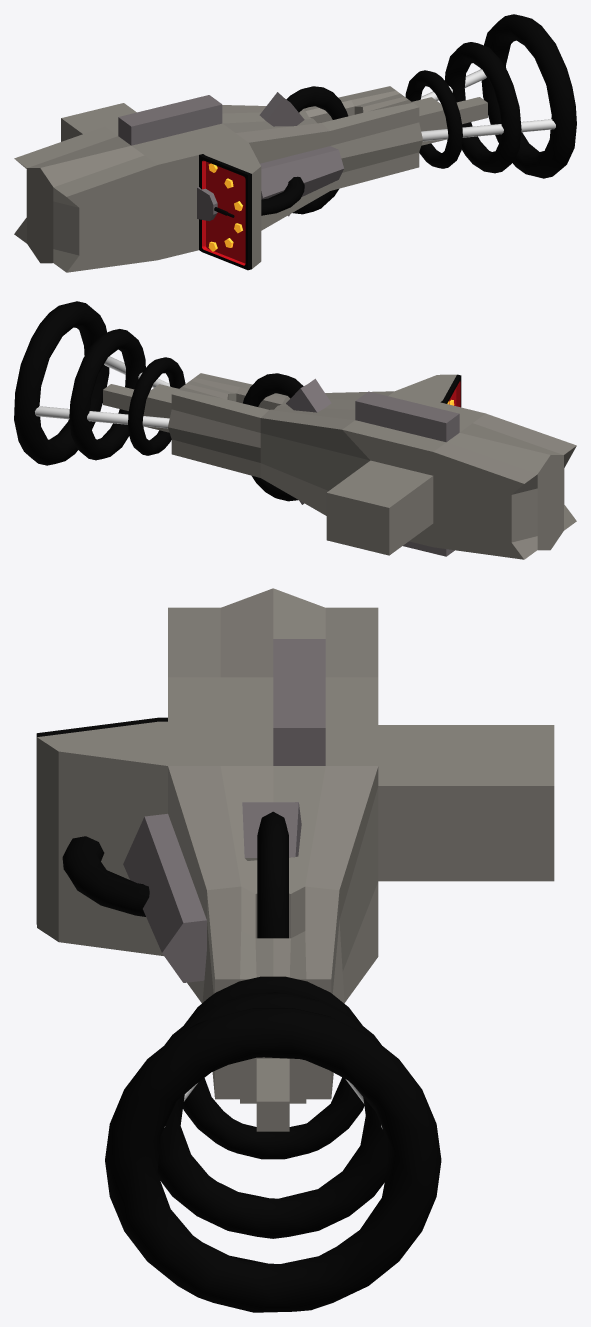
Rendered from scanner.fbx.
3 renders of one model, top to bottom at view 1: azimuth 30°, elevation 25°; view 2: azimuth 150°, elevation 25°; view 3: azimuth 270°, elevation 25°, orthographic. The views are drawn at different scales.
Visible parts, largest first — view 1: Cube, Torus.001, Torus, Torus.002, Torus.003, Cylinder.001, Torus.004, Cylinder, Cylinder.004, Cylinder.002; view 2: Cube, Torus.001, Torus, Torus.002, Torus.003, Cylinder.002, Cylinder.001; view 3: Cube, Torus.001, Torus, Torus.002, Torus.003, Torus.004.
Part boxes in pixels (x1,y1,x2,y2): Cube: (14,86,487,272); Torus.001: (480,14,576,178); Torus: (445,42,521,173); Torus.002: (405,70,462,168); Torus.003: (286,86,348,214); Cylinder.001: (421,119,555,141); Torus.004: (261,176,304,215); Cylinder: (197,187,217,221); Cylinder.004: (208,163,242,251); Cylinder.002: (420,69,486,100); Cube: (103,373,576,559); Torus.001: (14,301,109,465); Torus: (69,329,145,460); Torus.002: (128,357,185,455); Torus.003: (243,373,303,501); Cylinder.002: (35,406,169,428); Cylinder.001: (104,356,170,387); Cube: (36,588,554,1131); Torus.001: (105,1008,441,1312); Torus: (157,992,388,1238); Torus.002: (183,976,364,1159); Torus.003: (257,811,288,938); Torus.004: (62,836,149,916).
Bounding box in the file's own units: 2.74 × 0.7942 × 1.23.
